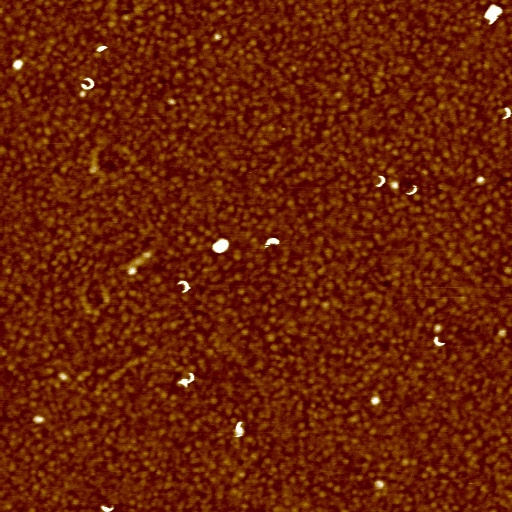-1: (482, 1, 503, 29), (211, 237, 232, 256), (232, 418, 249, 439), (12, 58, 24, 73), (94, 44, 109, 55), (33, 415, 47, 426), (371, 397, 382, 404)
1/4: (430, 333, 448, 349), (97, 505, 118, 511)
2/4: (178, 370, 199, 388), (260, 236, 285, 250), (403, 181, 421, 200), (373, 171, 387, 191), (176, 279, 191, 295), (500, 101, 510, 124)
3/4: (80, 76, 96, 93)
